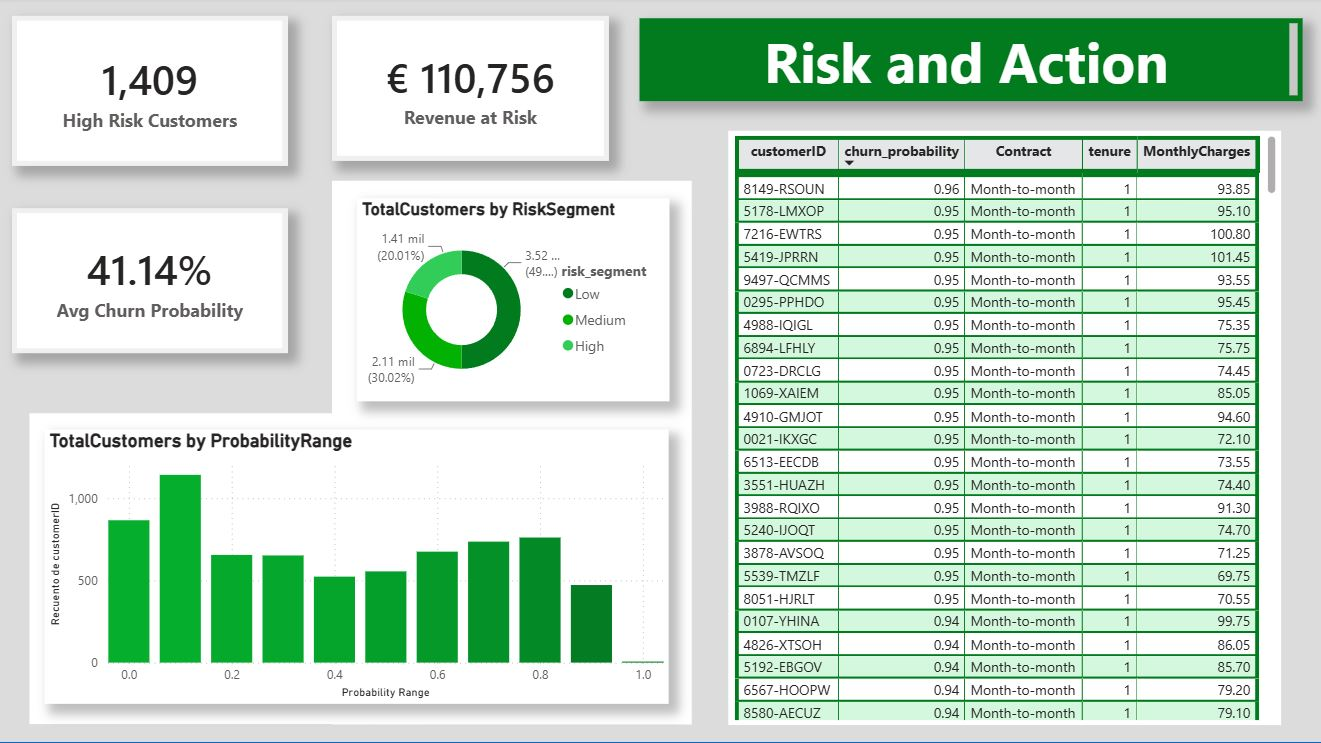

This screenshot's page, from the dashboard's own definition file:
{"tool":"powerbi","page":{"name":"Página 3","canvas":[1280,720],"ordinal":2},"visuals":[{"type":"shape","box":[0,0,1280,720],"z":0},{"type":"cardVisual","title":"High Risk Customer","fields":{"Data":["churn_predictions.High Risk Customers"]},"box":[15,17.5,266.2,145],"z":1000},{"type":"cardVisual","title":"Revenue at Risk","fields":{"Data":["churn_predictions.Revenue at Risk"]},"box":[323.8,17.5,267.5,140],"z":2000},{"type":"cardVisual","title":"Revenue at Risk","fields":{"Data":["churn_predictions.Avg Churn Probability"]},"box":[15,203.8,266.2,140],"z":3000},{"type":"shape","box":[323.5,177.2,347.5,525],"z":3500},{"type":"donutChart","title":"TotalCustomers by RiskSegment","fields":{"Category":["churn_predictions.risk_segment"],"Y":["CountNonNull(churn_predictions.customerID)"]},"box":[347.5,193.8,301.2,196.2],"z":4000},{"type":"shape","box":[31,402.2,300,300],"z":4500},{"type":"clusteredColumnChart","title":"TotalCustomers by ProbabilityRange","fields":{"Category":["churn_predictions.Probability Range"],"Y":["CountNonNull(churn_predictions.customerID)"]},"box":[46,417.2,602.5,265],"z":5000},{"type":"tableEx","fields":{"Values":["churn_predictions.customerID","churn_predictions.churn_probability","churn_predictions.Contract","churn_predictions.tenure","churn_predictions.MonthlyCharges"]},"box":[706.2,128.8,533.8,573.8],"z":6000},{"type":"textbox","box":[620,20,640,80],"z":8000}]}

Visuals, with their boxes in screenshot pixels (x1, y1, x2, y2), scaled from the page's 1280x720 canvas onto the 1321x743 screenshot:
shape: {"x1": 0, "y1": 0, "x2": 1320, "y2": 742}
"High Risk Customer" cardVisual: {"x1": 15, "y1": 18, "x2": 290, "y2": 168}
"Revenue at Risk" cardVisual: {"x1": 334, "y1": 18, "x2": 610, "y2": 163}
"Revenue at Risk" cardVisual: {"x1": 15, "y1": 210, "x2": 290, "y2": 355}
shape: {"x1": 334, "y1": 183, "x2": 692, "y2": 725}
"TotalCustomers by RiskSegment" donutChart: {"x1": 359, "y1": 200, "x2": 669, "y2": 402}
shape: {"x1": 32, "y1": 415, "x2": 342, "y2": 725}
"TotalCustomers by ProbabilityRange" clusteredColumnChart: {"x1": 47, "y1": 431, "x2": 669, "y2": 704}
tableEx - churn_predictions.customerID x churn_predictions.churn_probability: {"x1": 729, "y1": 133, "x2": 1280, "y2": 725}
textbox: {"x1": 640, "y1": 21, "x2": 1300, "y2": 103}
